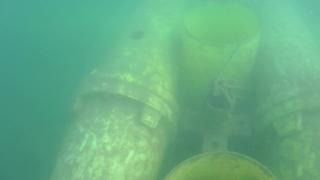pipe: (47, 1, 190, 178), (262, 1, 320, 179), (181, 4, 264, 112), (161, 152, 278, 179)
